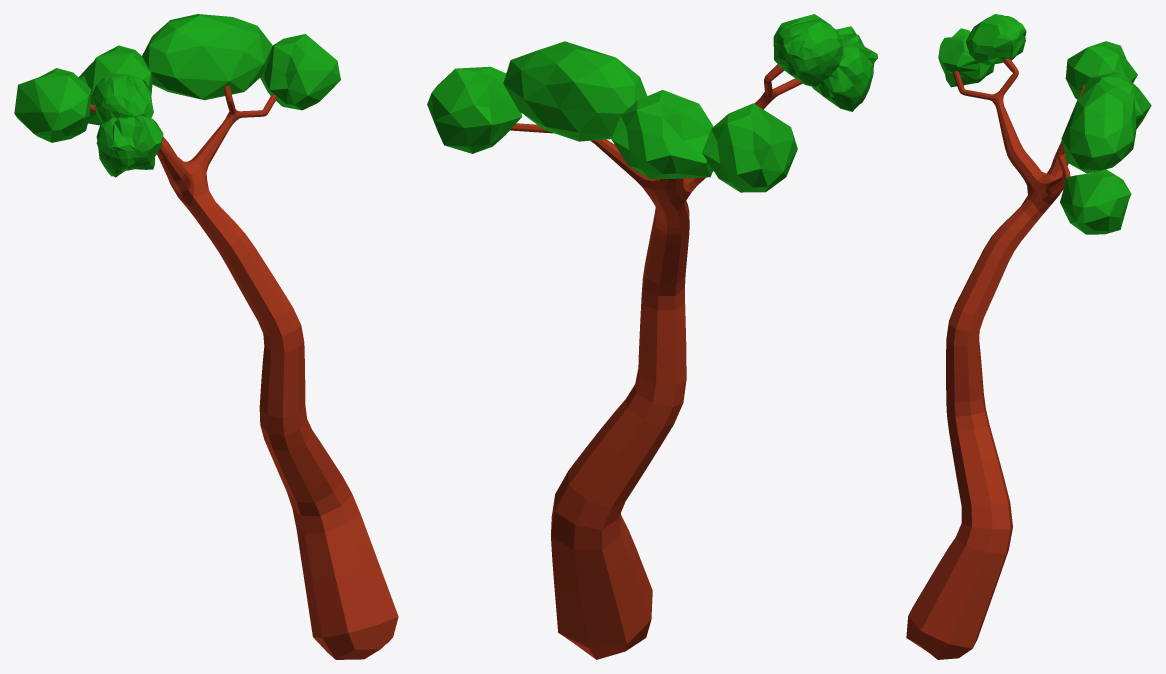
File: modeltree.obj
3 renders of one model, left to right at view 1: azimuth 30°, elevation 25°; view 2: azimuth 150°, elevation 25°; view 3: azimuth 270°, elevation 25°, orthographic. The views are drawn at different scales.
Visible parts, largest first — view 1: Cube.001_Cube.002, Icosphere.003_Icosphere.004, Icosphere.004_Icosphere.001, Icosphere.001_Icosphere.002, Icosphere.006, Icosphere.007, Icosphere.005; view 2: Cube.001_Cube.002, Icosphere.003_Icosphere.004, Icosphere.005, Icosphere.004_Icosphere.001, Icosphere.001_Icosphere.002, Icosphere.007, Icosphere.006; view 3: Cube.001_Cube.002, Icosphere.003_Icosphere.004, Icosphere.001_Icosphere.002, Icosphere.007, Icosphere.004_Icosphere.001, Icosphere.006, Icosphere.005.
Boxes of the visible parts, bbox=[...] form: Cube.001_Cube.002: bbox=[90, 85, 398, 659]; Icosphere.003_Icosphere.004: bbox=[142, 14, 272, 100]; Icosphere.004_Icosphere.001: bbox=[14, 68, 91, 142]; Icosphere.001_Icosphere.002: bbox=[260, 34, 340, 110]; Icosphere.006: bbox=[96, 116, 163, 177]; Icosphere.007: bbox=[92, 73, 153, 123]; Icosphere.005: bbox=[78, 45, 152, 125]; Cube.001_Cube.002: bbox=[510, 64, 802, 659]; Icosphere.003_Icosphere.004: bbox=[503, 41, 647, 141]; Icosphere.005: bbox=[611, 90, 713, 178]; Icosphere.004_Icosphere.001: bbox=[702, 103, 797, 192]; Icosphere.001_Icosphere.002: bbox=[427, 66, 521, 153]; Icosphere.007: bbox=[773, 14, 842, 87]; Icosphere.006: bbox=[812, 26, 877, 111]; Cube.001_Cube.002: bbox=[906, 58, 1085, 659]; Icosphere.003_Icosphere.004: bbox=[1061, 83, 1136, 173]; Icosphere.001_Icosphere.002: bbox=[1060, 169, 1131, 234]; Icosphere.007: bbox=[965, 14, 1026, 65]; Icosphere.004_Icosphere.001: bbox=[1065, 41, 1137, 99]; Icosphere.006: bbox=[938, 28, 994, 87]; Icosphere.005: bbox=[1081, 72, 1151, 129].
Bounding box in the file's own units: 2.47 × 4.67 × 1.89.
